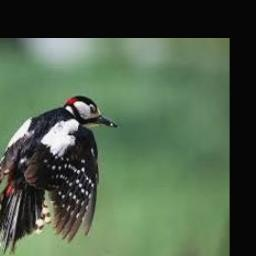Woodpecker: (0, 95, 119, 256)
